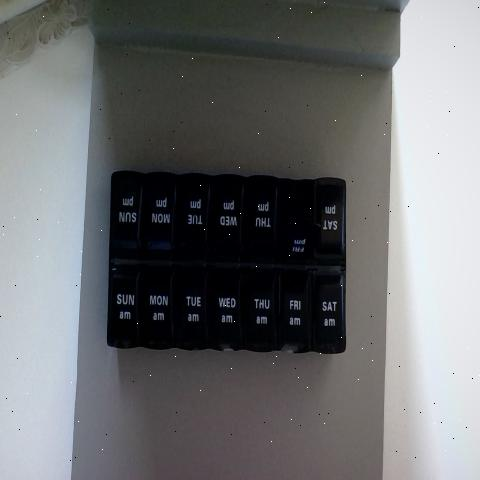FRI-am: (286, 271, 314, 348)
MON-am: (144, 271, 179, 351)
MON-pm: (146, 175, 182, 258)
Open: (282, 178, 314, 255)
PillBox: (94, 151, 358, 370)
SAT-am: (310, 275, 346, 356)
SAT-pm: (314, 182, 346, 259)
SUN-am: (109, 264, 142, 350)
SUN-pm: (111, 176, 145, 258)
THU-am: (248, 269, 281, 351)
THU-pm: (247, 177, 281, 263)
TUE-am: (180, 270, 211, 350)
TUE-pm: (183, 173, 214, 254)
WED-am: (214, 268, 246, 350)
WED-pm: (215, 176, 250, 255)
